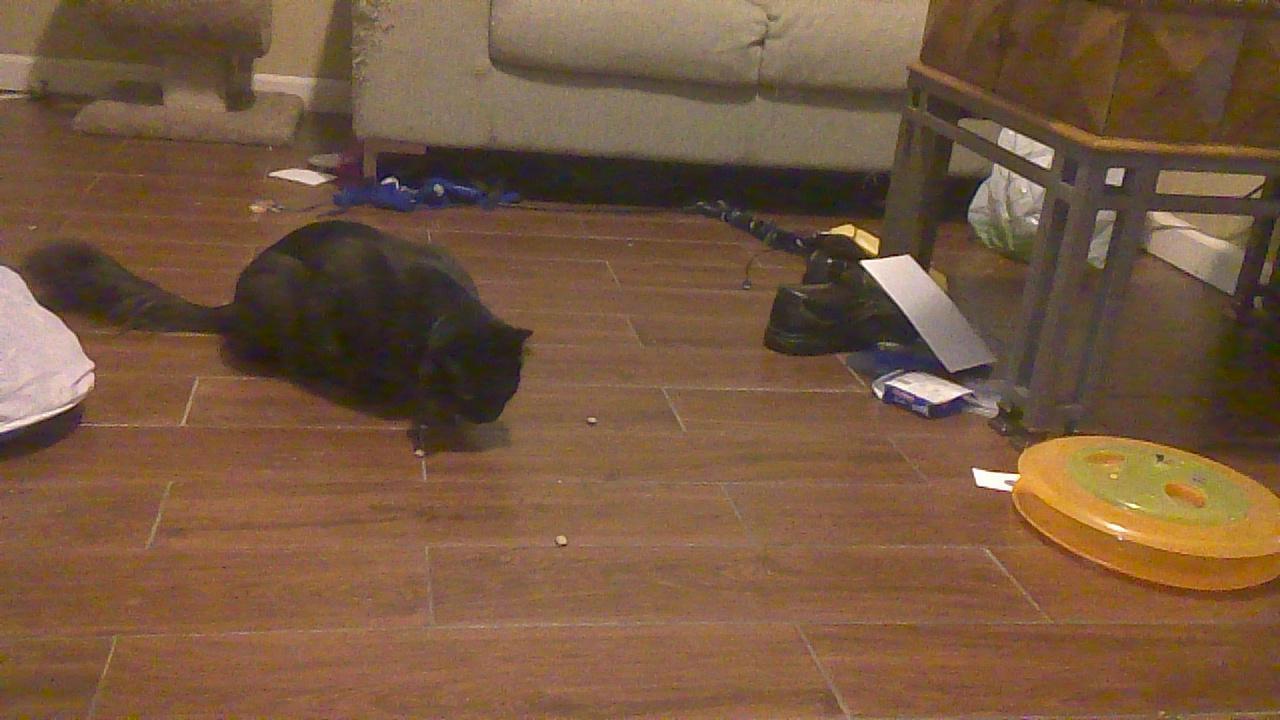cat: (19, 222, 538, 450)
